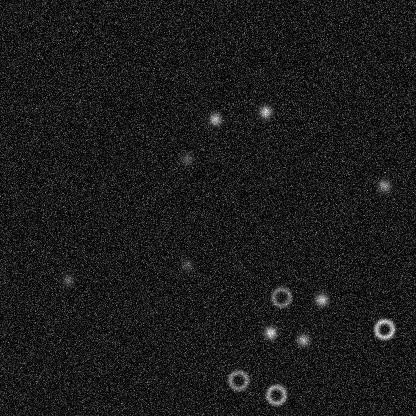Ring: (226, 368, 250, 392), (269, 285, 293, 309), (372, 317, 396, 341), (264, 382, 288, 406)
Spot: (262, 324, 278, 340), (257, 103, 273, 119), (59, 272, 75, 288), (294, 332, 310, 348), (375, 177, 391, 193), (206, 111, 222, 127), (179, 256, 195, 272), (179, 151, 195, 167), (313, 291, 329, 307)
